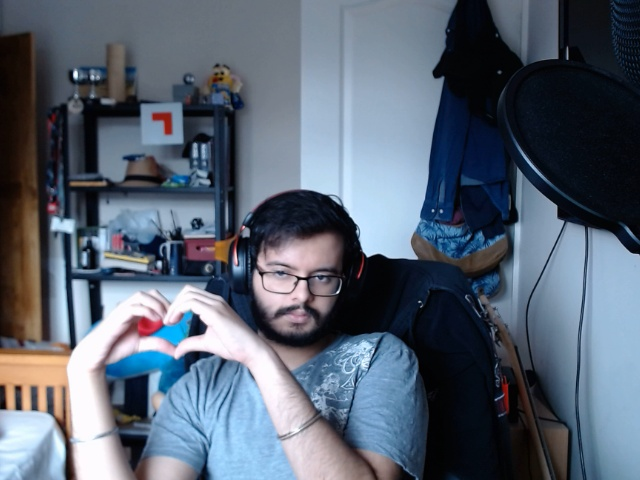Heart: (81, 280, 250, 372)
